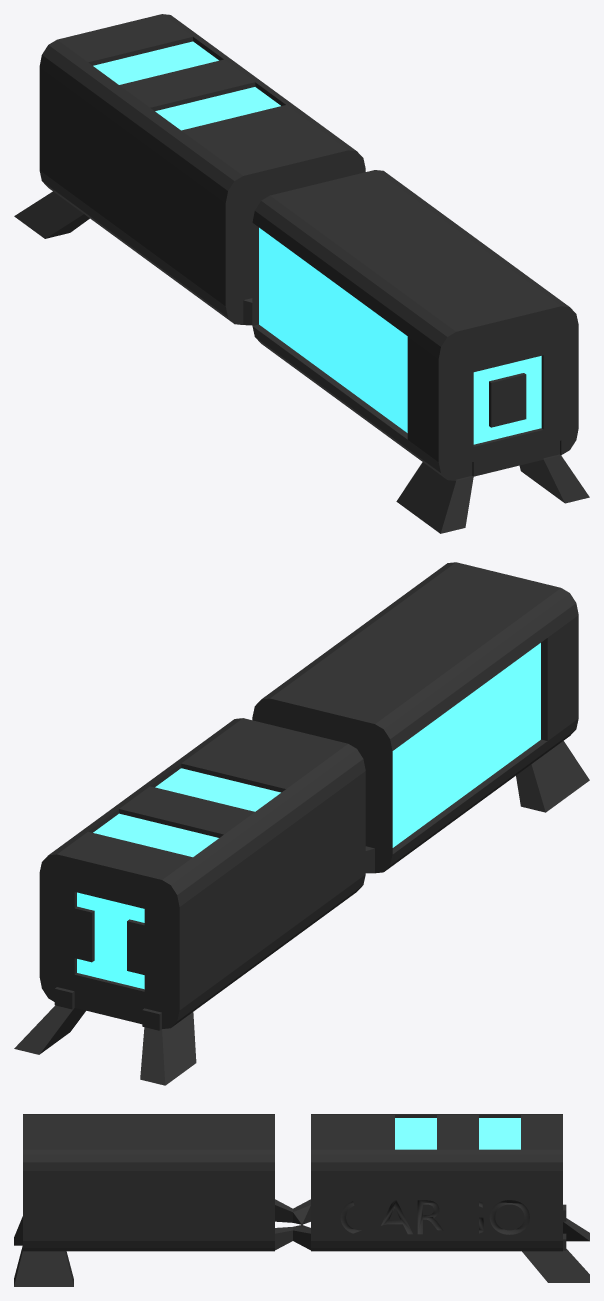
Rendered from Train.fbx.
3 views of the same model, one above another, from view 1: azimuth 30°, elevation 25°; view 2: azimuth 150°, elevation 25°; view 3: azimuth 270°, elevation 25° (orthographic). The views are drawn at different scales.
Visible parts, largest first — view 1: Cube; view 2: Cube; view 3: Cube.
Part boxes in pixels (x1,y1,x2,y2): Cube: (14, 14, 589, 533); Cube: (14, 562, 589, 1085); Cube: (14, 1114, 589, 1286).
Bounding box in the file's own units: 216 × 262 × 1053.
